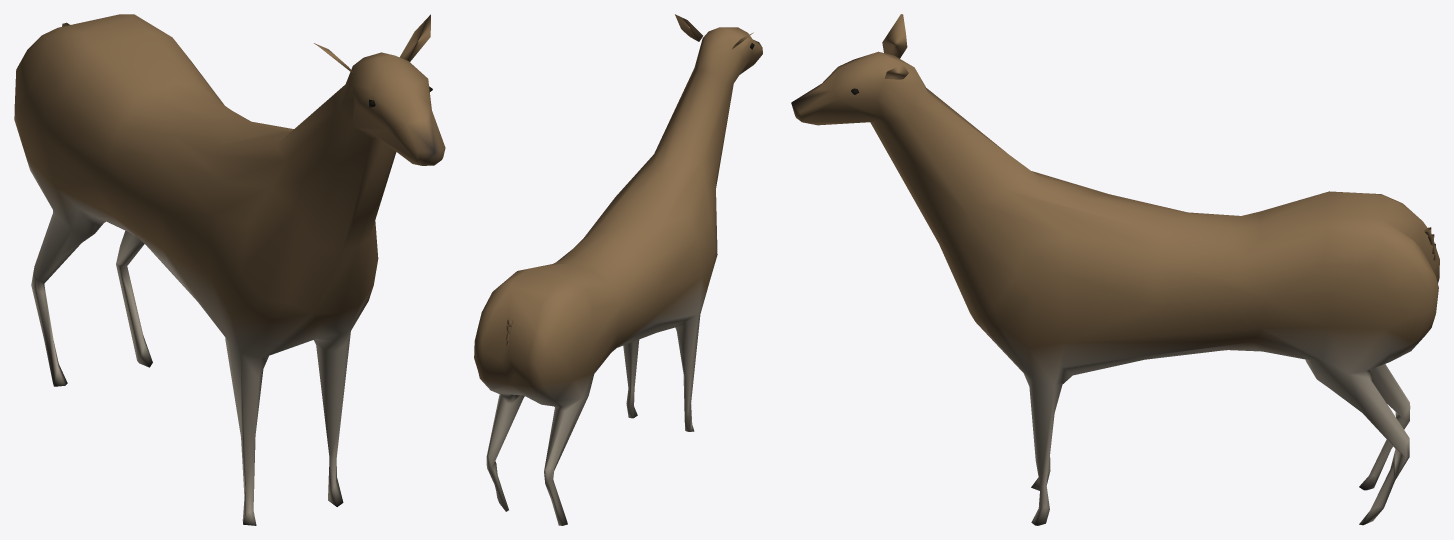
File: reh.glb
3 views of the same model, side by side, from view 1: azimuth 30°, elevation 25°; view 2: azimuth 150°, elevation 25°; view 3: azimuth 270°, elevation 25° (orthographic). The views are drawn at different scales.
Parts seen in each view (by area): view 1: lack; view 2: lack; view 3: lack.
Part boxes in pixels (bbox=[...]): lack: bbox=[14, 14, 445, 525]; lack: bbox=[474, 14, 762, 525]; lack: bbox=[791, 14, 1439, 525].
Size of the model in its own units: 0.3539 by 1.25 by 1.57.
